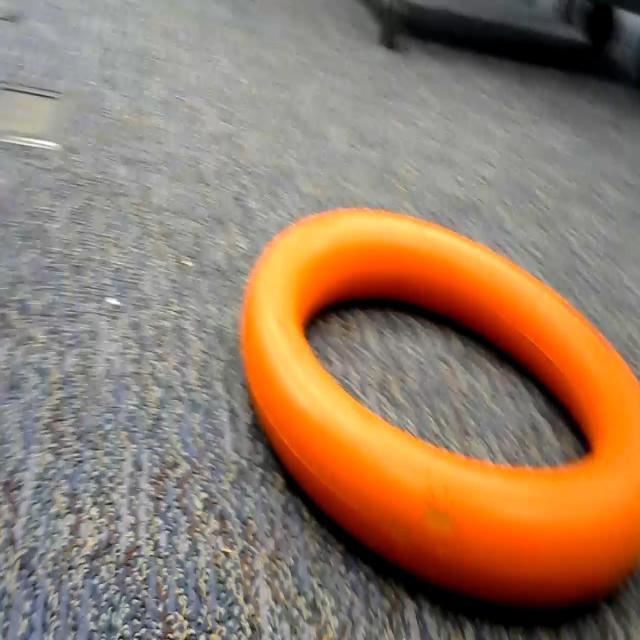note: (248, 197, 640, 640)
